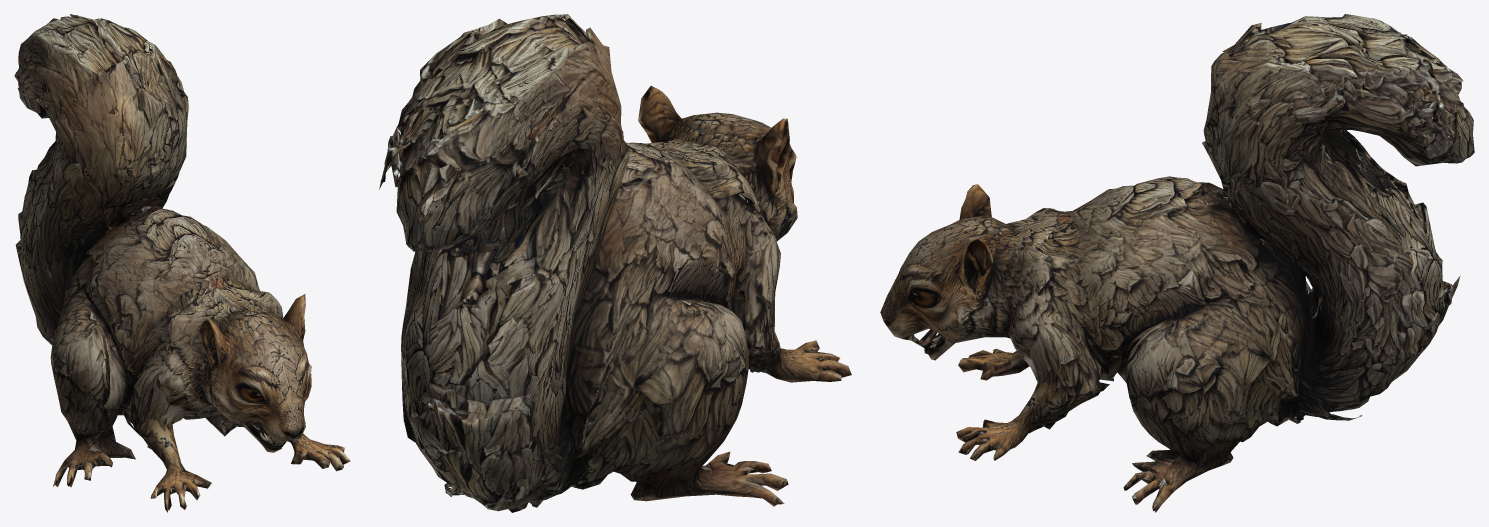
File: Squirrel.glb
The picture shows the model from 3 angles, left to right: view 1: azimuth 30°, elevation 25°; view 2: azimuth 150°, elevation 25°; view 3: azimuth 270°, elevation 25°; orthographic projection. The views are drawn at different scales.
Visible parts, largest first — view 1: texture_mapping; view 2: texture_mapping; view 3: texture_mapping.
Boxes of the visible parts, <box> form: texture_mapping: <box>14,14,350,512</box>; texture_mapping: <box>379,14,851,512</box>; texture_mapping: <box>880,14,1474,512</box>.
Size of the model in its own units: 0.5396 by 0.7744 by 0.9828.
1 material, 1 textured.
